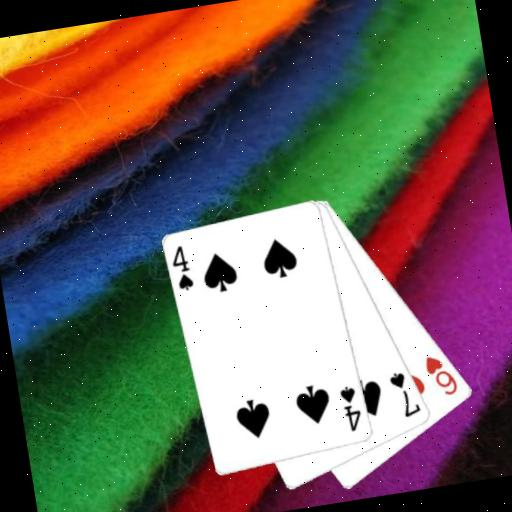4S: (335, 381, 366, 434), (167, 241, 197, 294)
6H: (421, 349, 461, 401)
7S: (386, 366, 424, 421)
